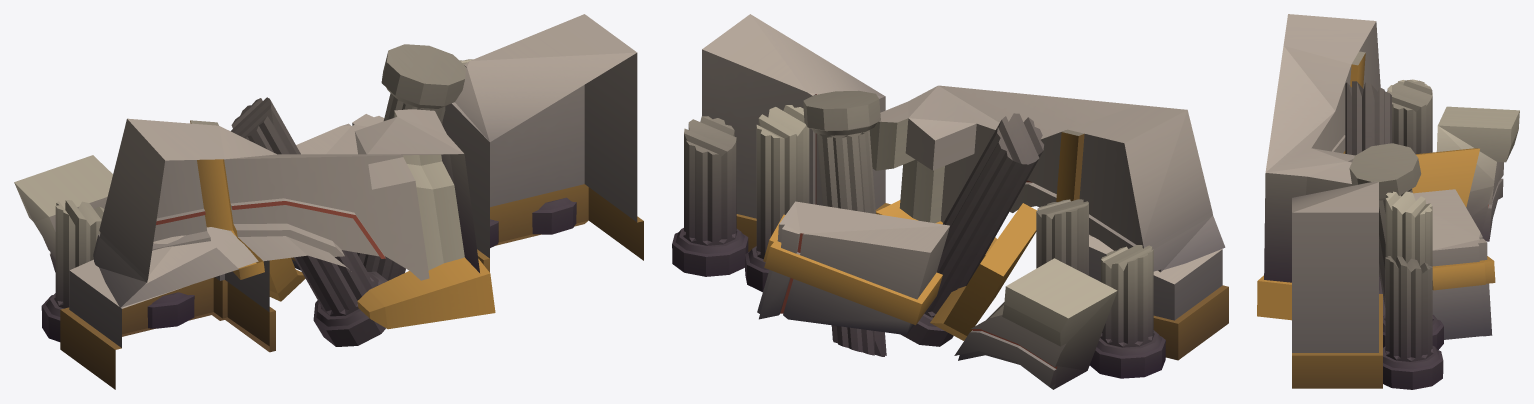
Rendered from Obstaculo_ArcoT_Destruido.fbx.
3 views of the same model, side by side, from view 1: azimuth 30°, elevation 25°; view 2: azimuth 150°, elevation 25°; view 3: azimuth 270°, elevation 25° (orthographic). The views are drawn at different scales.
Visible parts, largest first — view 1: ArcoT_Destruido; view 2: ArcoT_Destruido; view 3: ArcoT_Destruido.
Boxes of the visible parts, x1,y1,x2,y2 form: ArcoT_Destruido: (14,14,643,389); ArcoT_Destruido: (672,14,1228,389); ArcoT_Destruido: (1257,14,1519,389).
Size of the model in its own units: 1553 by 789 by 807.
